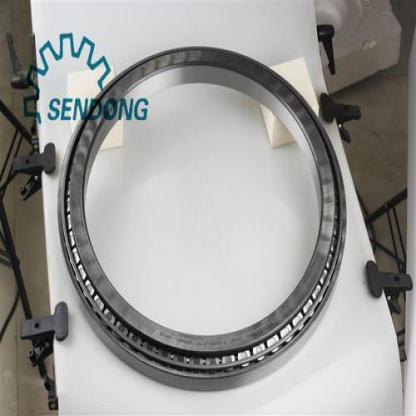FOD: (53, 44, 349, 394)
